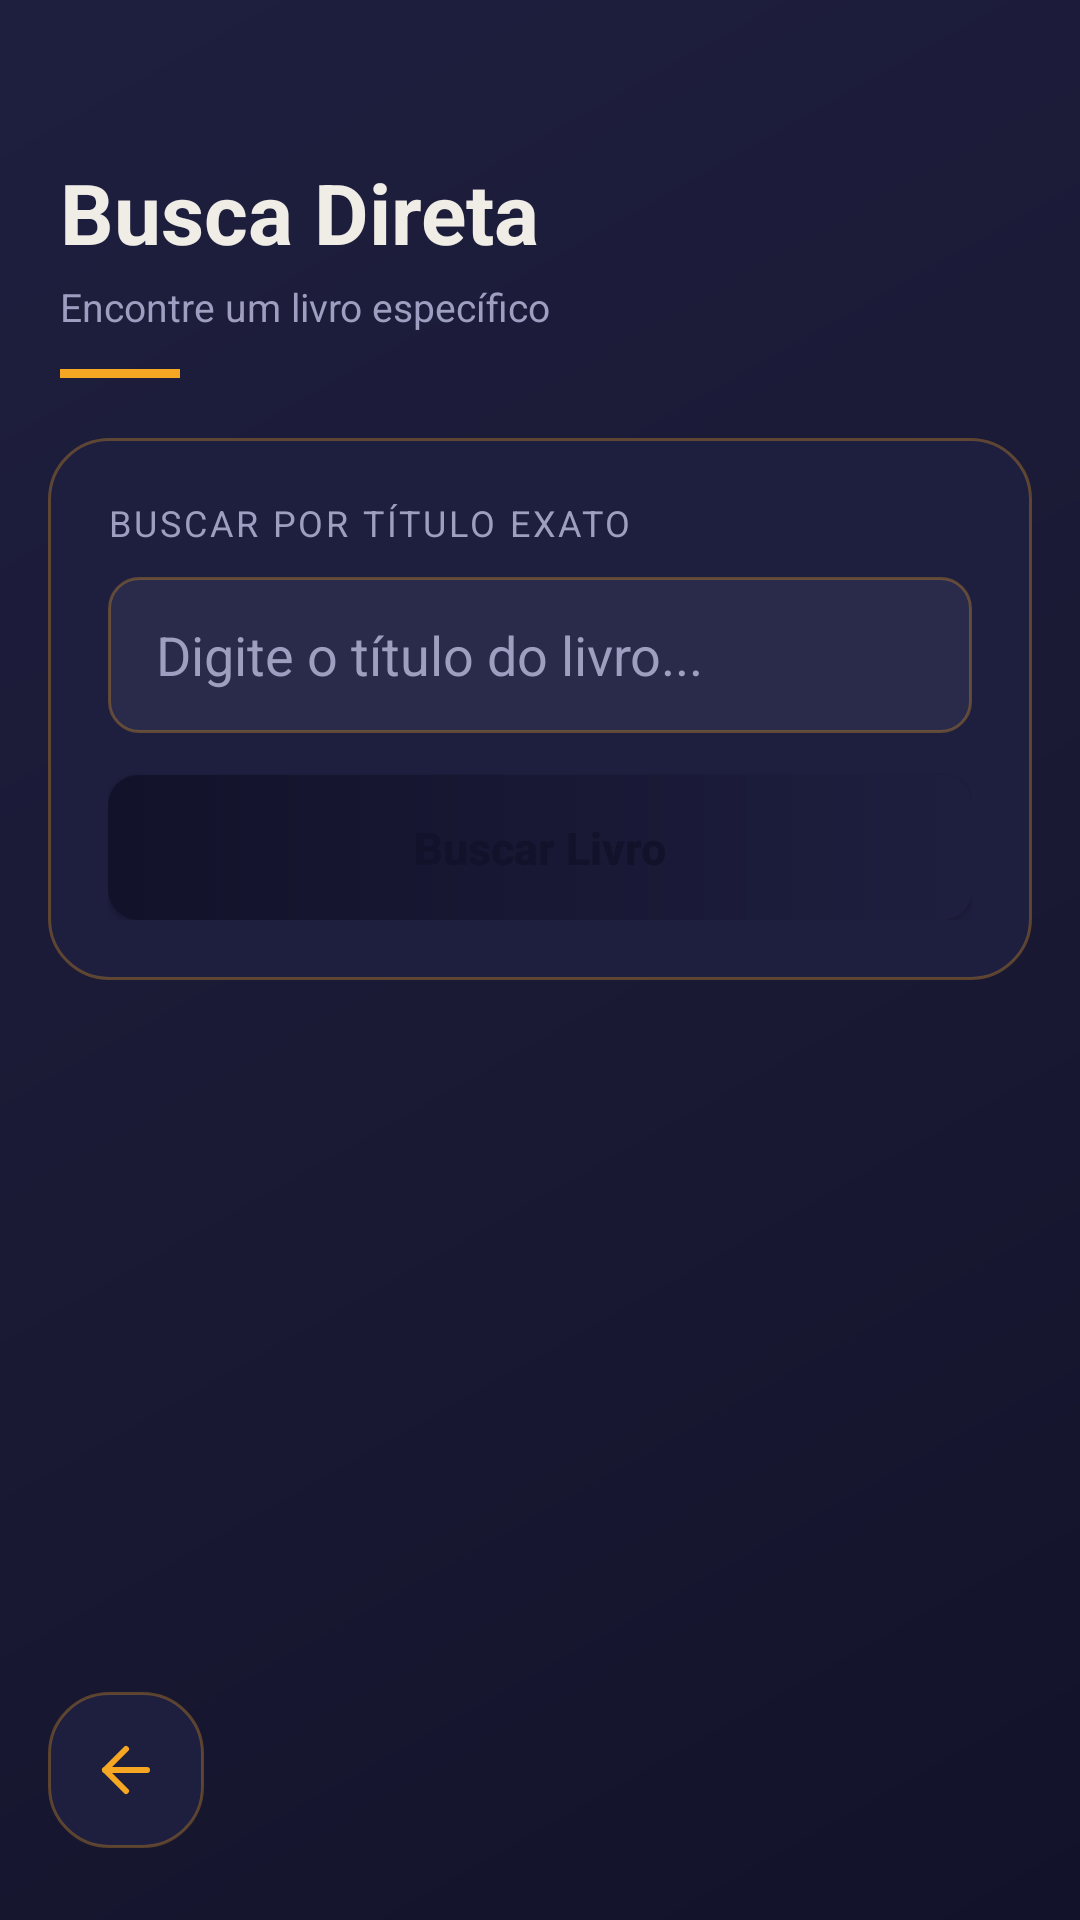

Screen size 1080px×1920px. Icon name, then its center in pixels as point (x, y):
Voltar: point (126, 1770)
